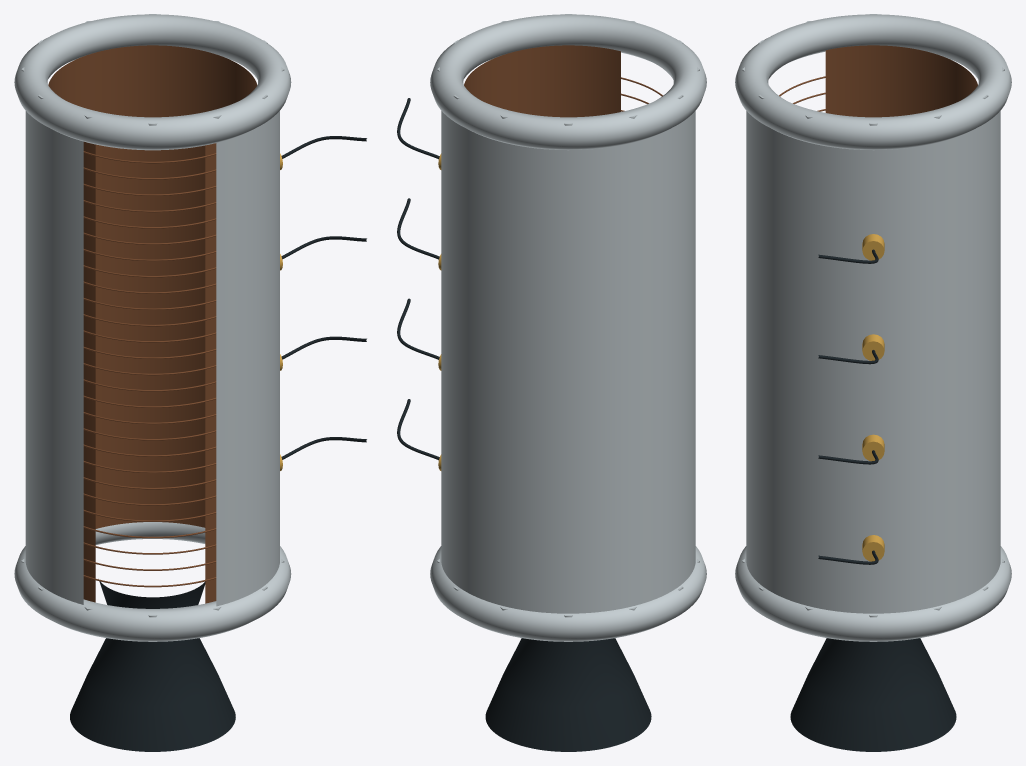
The model's file is rocket.glb.
3 views of the same model, side by side, from view 1: azimuth 30°, elevation 25°; view 2: azimuth 150°, elevation 25°; view 3: azimuth 270°, elevation 25° (orthographic).
Visible parts, largest first — view 1: Main assembly; view 2: Main assembly; view 3: Main assembly.
Part boxes in pixels (box(x1,y1,x2,y2)): Main assembly: box(14, 14, 366, 751); Main assembly: box(397, 14, 706, 751); Main assembly: box(735, 14, 1011, 751).
Bounding box in the file's own units: 1.29 × 2.59 × 1.
